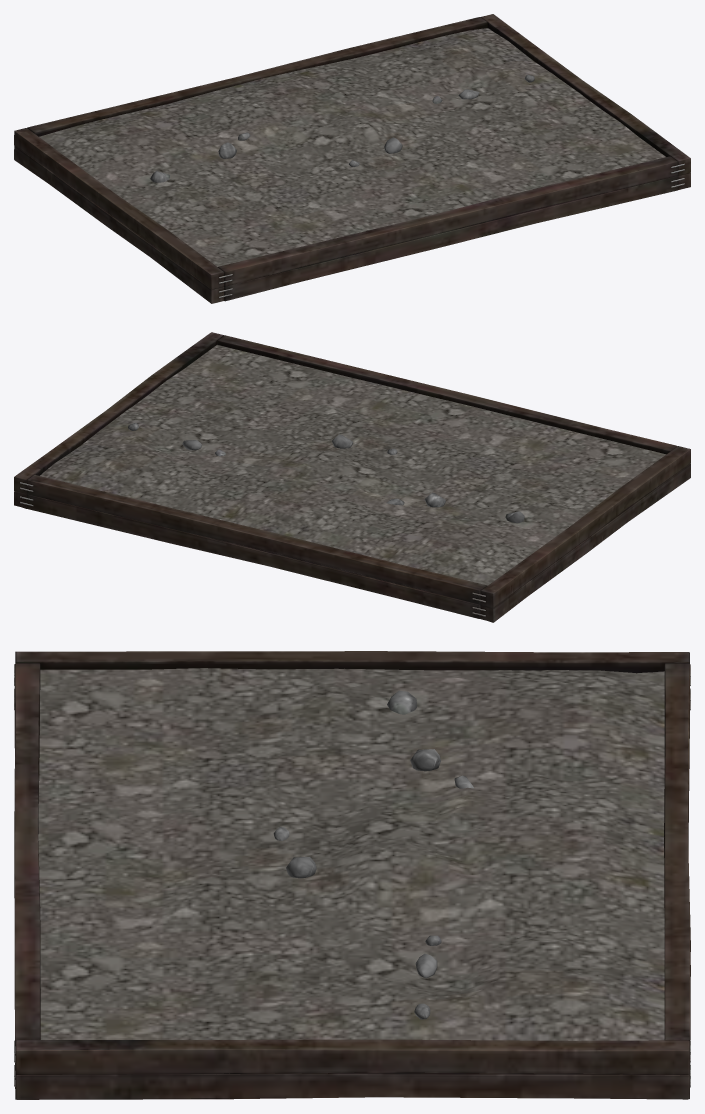
The model's file is SM_StonePit_SM_StonePit_Fence_0894d4.glb.
The picture shows the model from 3 angles, top to bottom: view 1: azimuth 30°, elevation 25°; view 2: azimuth 150°, elevation 25°; view 3: azimuth 270°, elevation 25°; orthographic projection. The views are drawn at different scales.
Bounding box in the file's own units: 6.53 × 0.5115 × 4.67.
3 materials, 3 textured.
